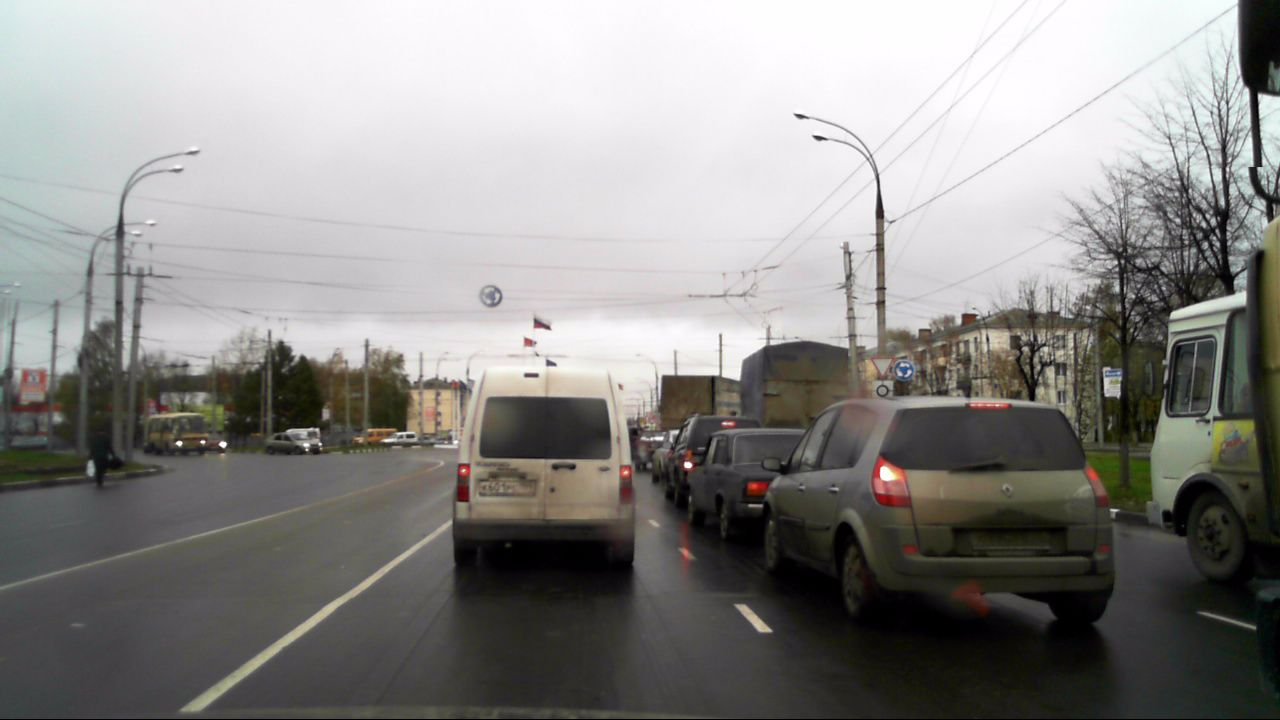Round-About: (478, 284, 502, 308)
